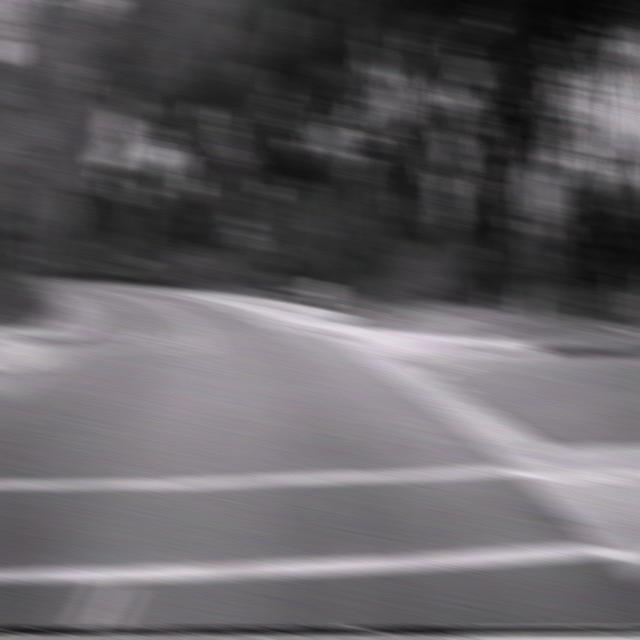stop: (522, 162, 554, 222)
